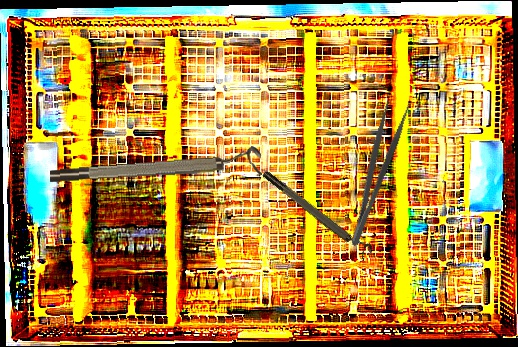Dressing Forceps: (335, 97, 413, 249)
Fixation Ring: (260, 163, 376, 263), (48, 145, 263, 187)
